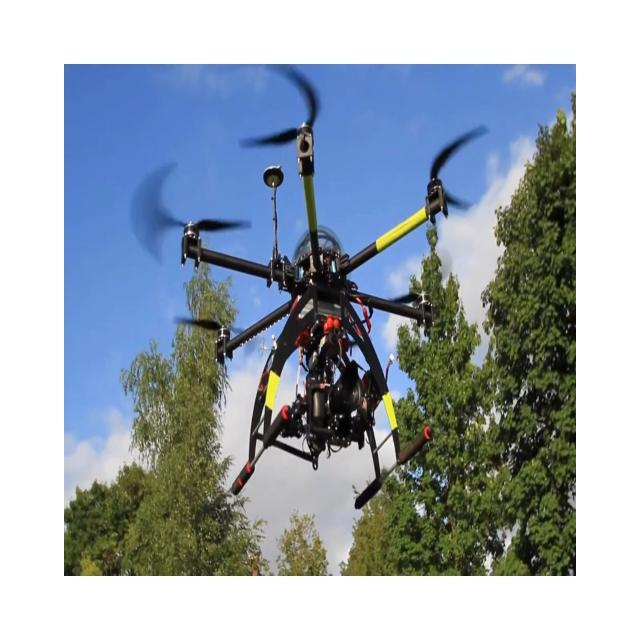drone: (130, 64, 490, 510)
